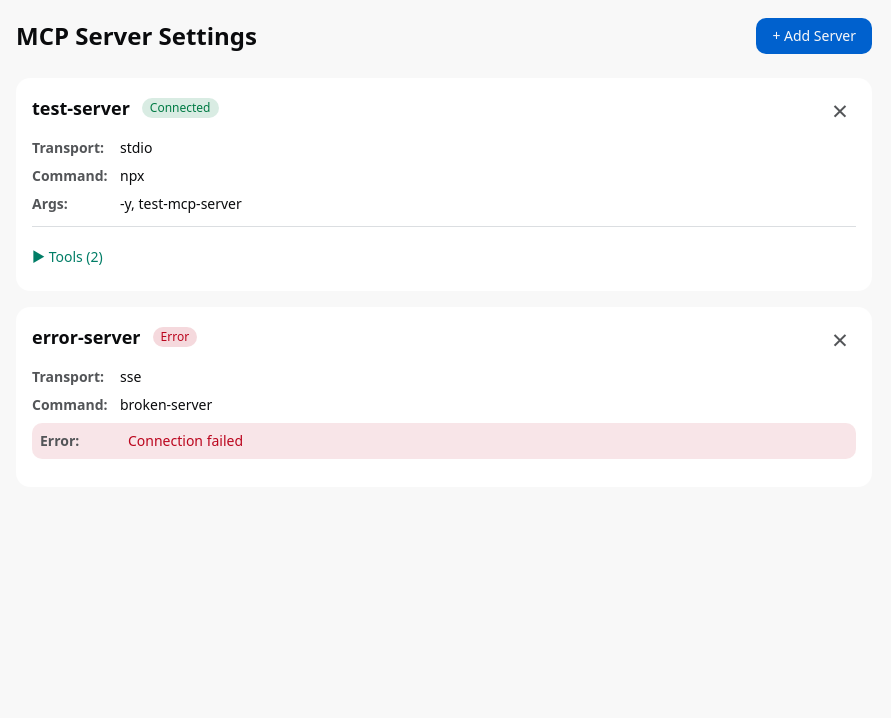
MCPSettings › add server form › should show form when add button is clicked
Click the button "+ Add Server" at (814, 36), box 756,18 -> 872,54
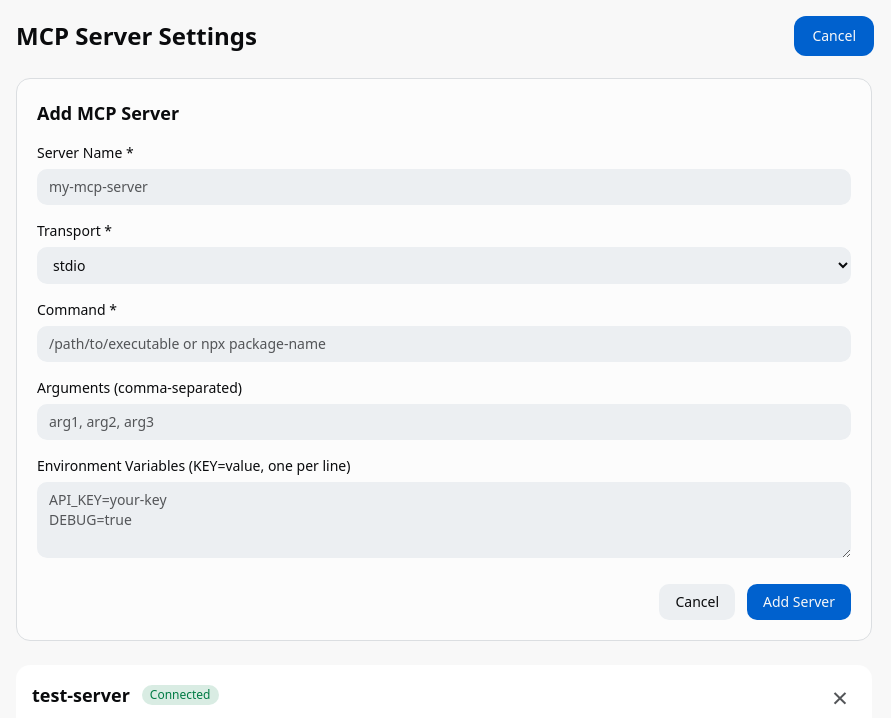
Result: the heading "Add MCP Server" is shown at 37,101 -> 179,125
Result: the field labelled "Server Name *" is shown at 37,169 -> 851,205
Result: the dropdown labelled "Transport *" is shown at 37,247 -> 851,284
